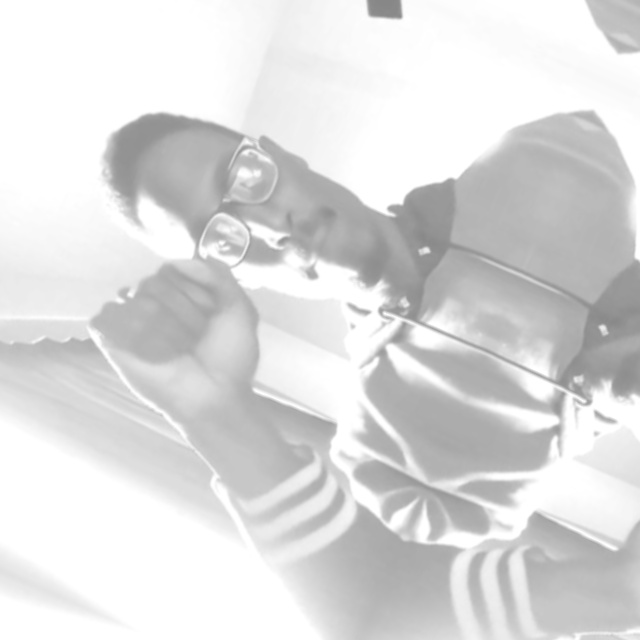Rock: (62, 218, 297, 450)
